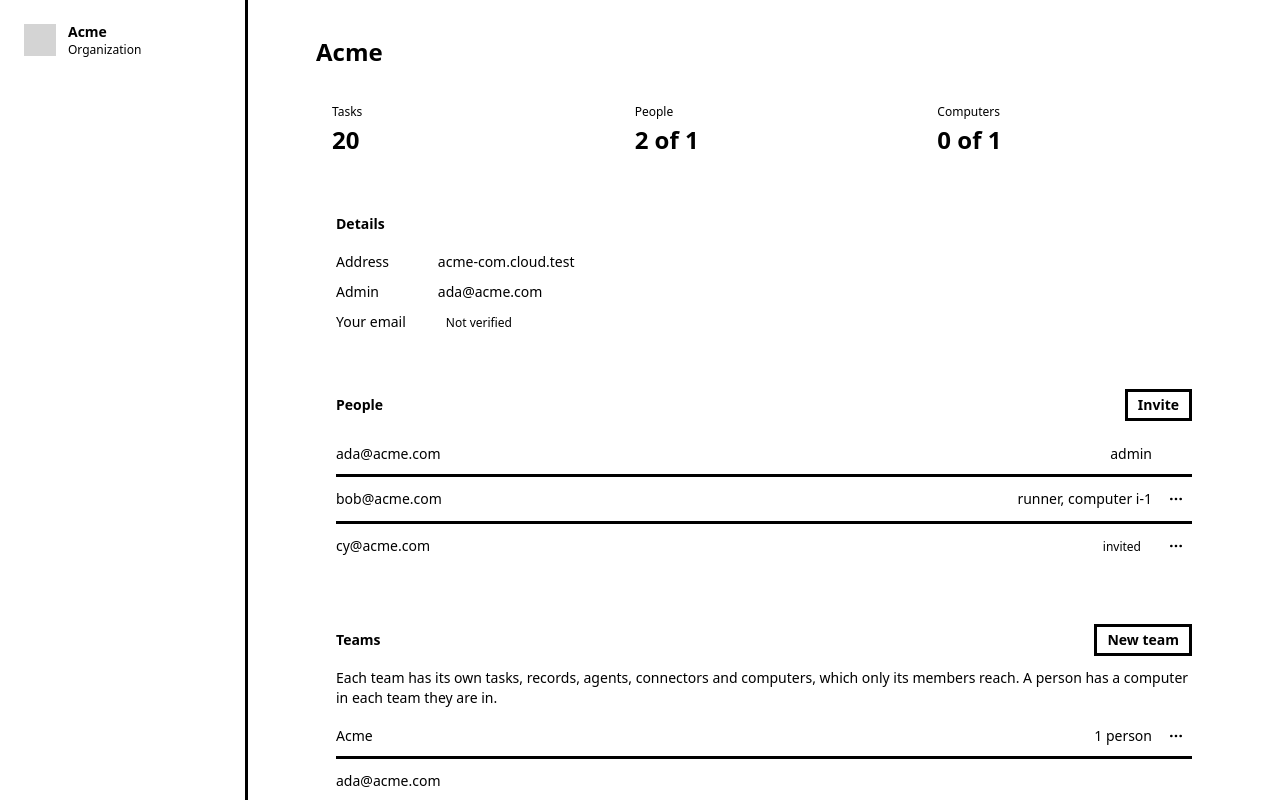
an organization's page › offers an admin the other role behind each person's menu, and the last admin no runner
Expected: the text "runner, computer i-1" is shown, [1017,489,1152,509]
Click the button named "More for bob@acme.com" at (1176, 499), box [1160,483,1192,515]
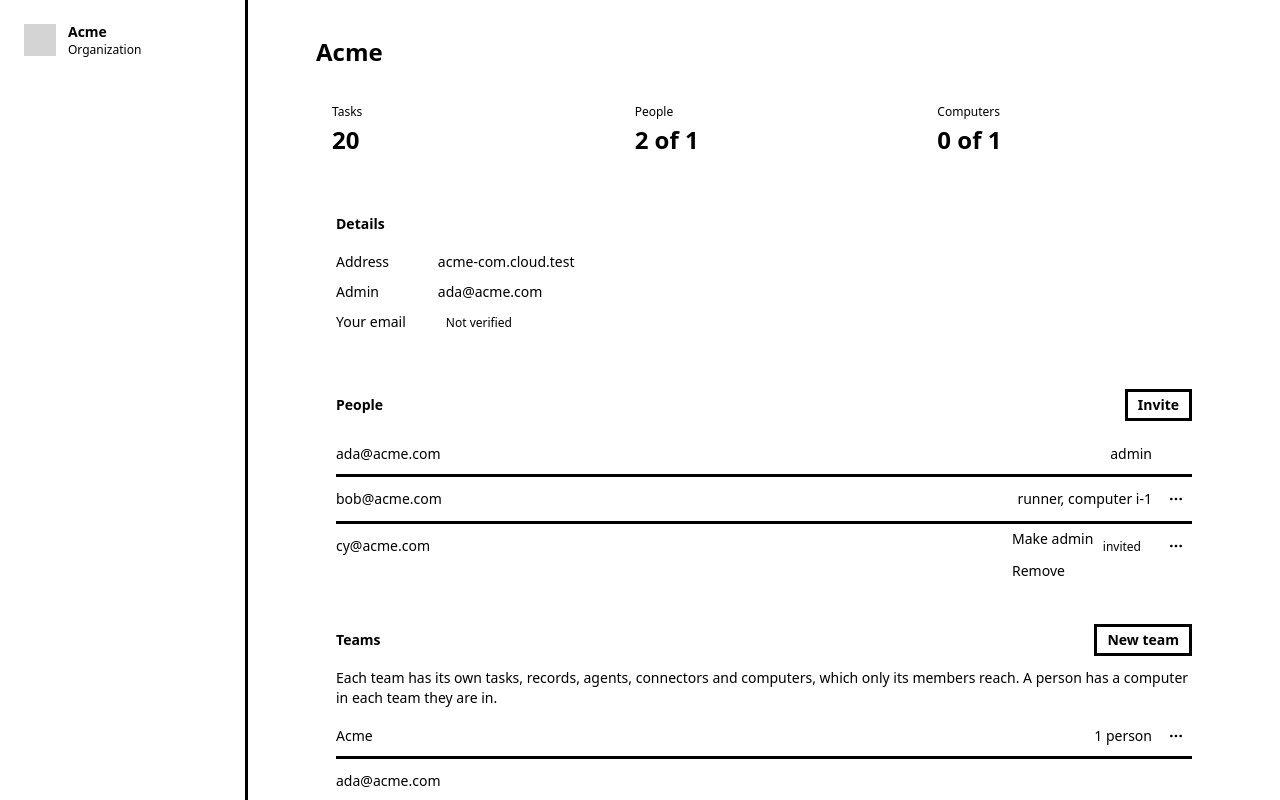
Expected: the menu items read "Make admin", "Remove", in this order, [1012,529,1093,548]; [1012,561,1065,580]
